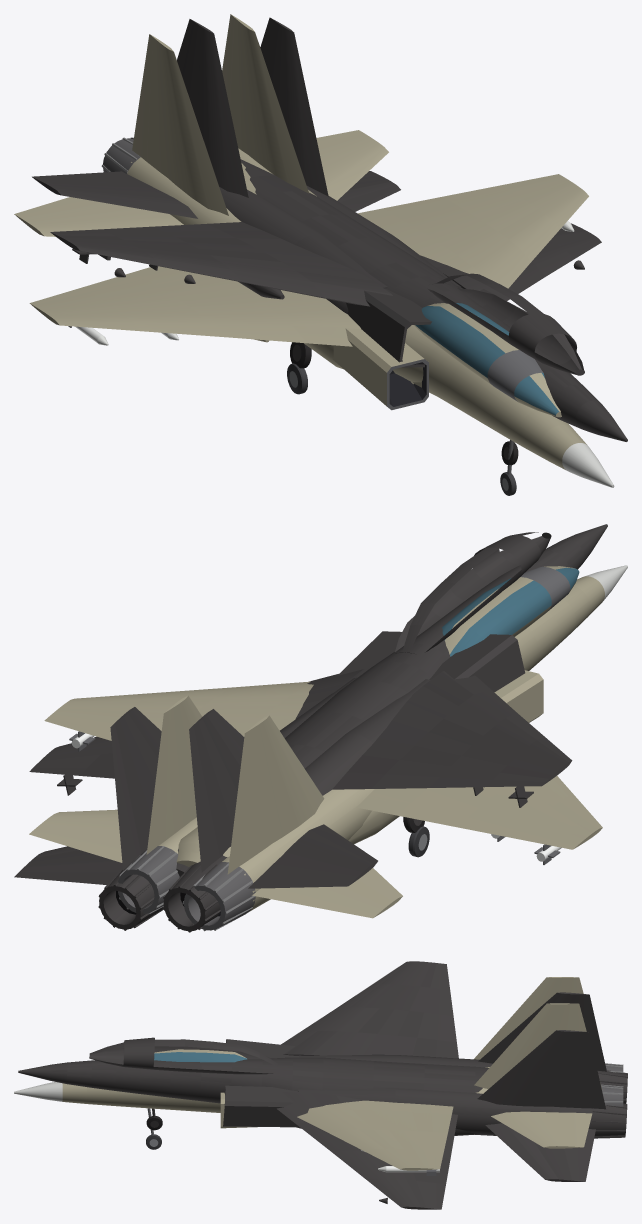
Rendered from jet__f_15ex_eagle_ii.glb.
The picture shows the model from 3 angles, top to bottom: view 1: azimuth 30°, elevation 25°; view 2: azimuth 150°, elevation 25°; view 3: azimuth 270°, elevation 25°; orthographic projection. The views are drawn at different scales.
Parts seen in each view (by area): view 1: Fuselage_Mesh, Wreck; view 2: Wreck, Fuselage_Mesh; view 3: Wreck, Fuselage_Mesh.
Boxes of the visible parts, box(x1,y1,x2,y2) form: Fuselage_Mesh: box(14, 14, 614, 495); Wreck: box(32, 17, 627, 464); Wreck: box(14, 524, 607, 932); Fuselage_Mesh: box(29, 565, 627, 931); Wreck: box(18, 961, 627, 1209); Fuselage_Mesh: box(14, 977, 623, 1175).
Size of what is drawn, in the model's own units: 13.4 by 5.61 by 19.63.
